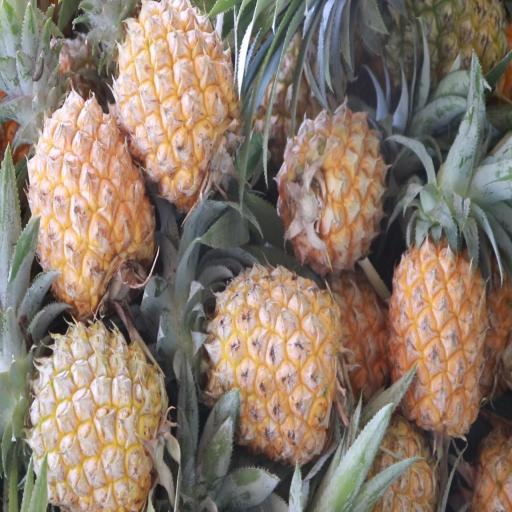Pineapple - v8 v1: (28, 96, 152, 308), (110, 2, 242, 196), (32, 321, 166, 512), (214, 262, 344, 458), (390, 232, 488, 433), (280, 105, 387, 268)
